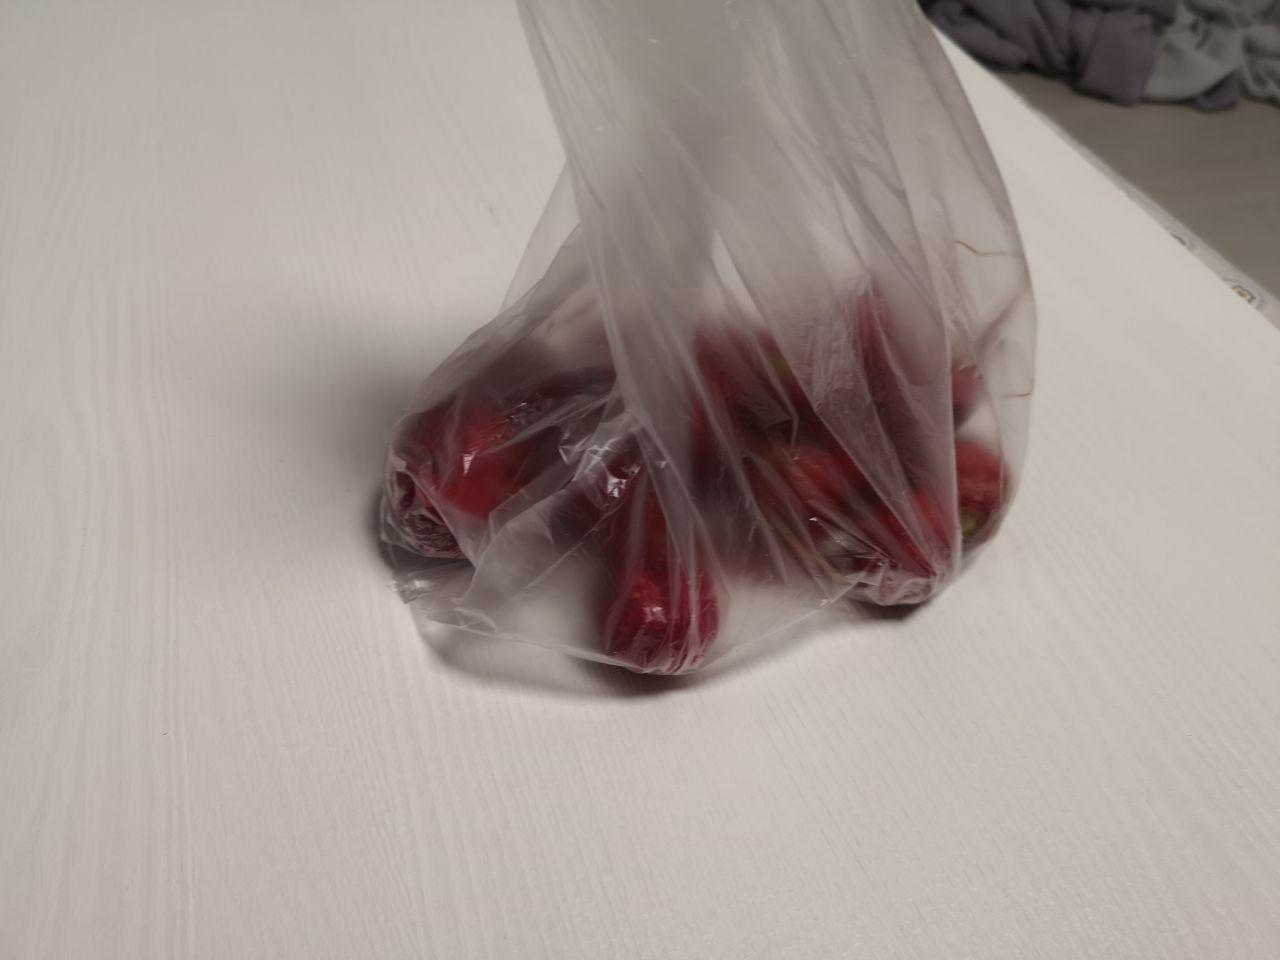redish: (380, 207, 1022, 708)
